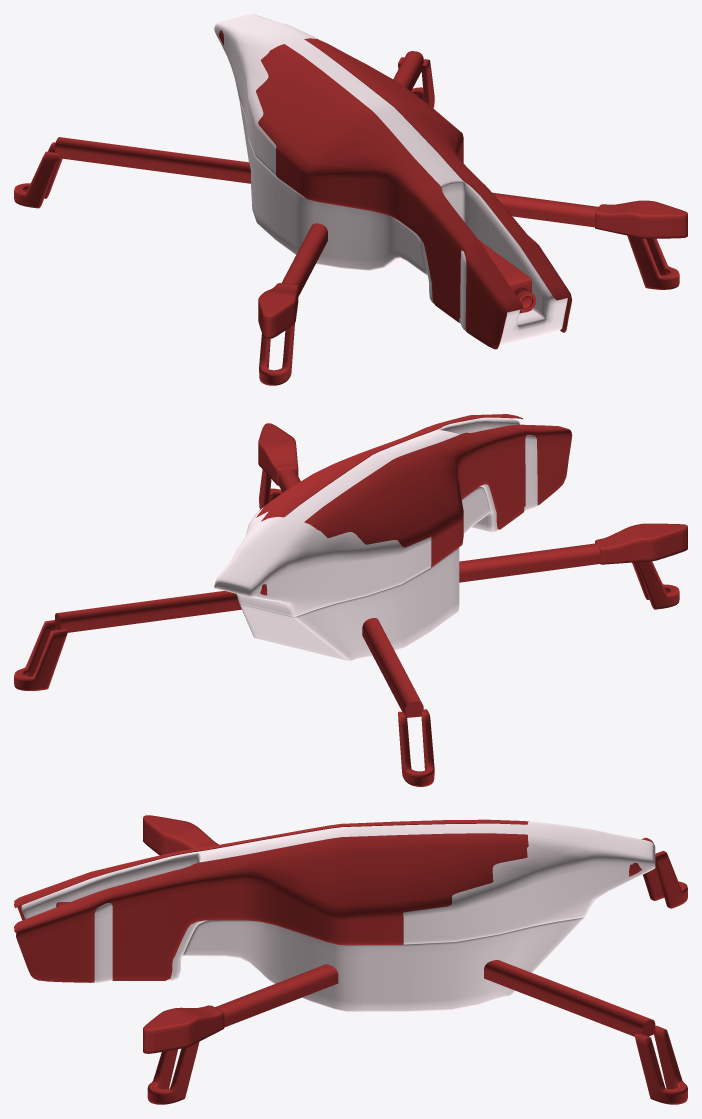
The model's file is body_02_red.09a3975a.glb.
The picture shows the model from 3 angles, top to bottom: view 1: azimuth 30°, elevation 25°; view 2: azimuth 150°, elevation 25°; view 3: azimuth 270°, elevation 25°; orthographic projection. The views are drawn at different scales.
Parts seen in each view (by area): view 1: Extrude_2; view 2: Extrude_2; view 3: Extrude_2.
Part boxes in pixels (<box>): Extrude_2: <box>14,14,687,385</box>; Extrude_2: <box>14,414,687,786</box>; Extrude_2: <box>14,815,687,1104</box>.
Size of the model in its own units: 8.91 by 3.31 by 11.79.
